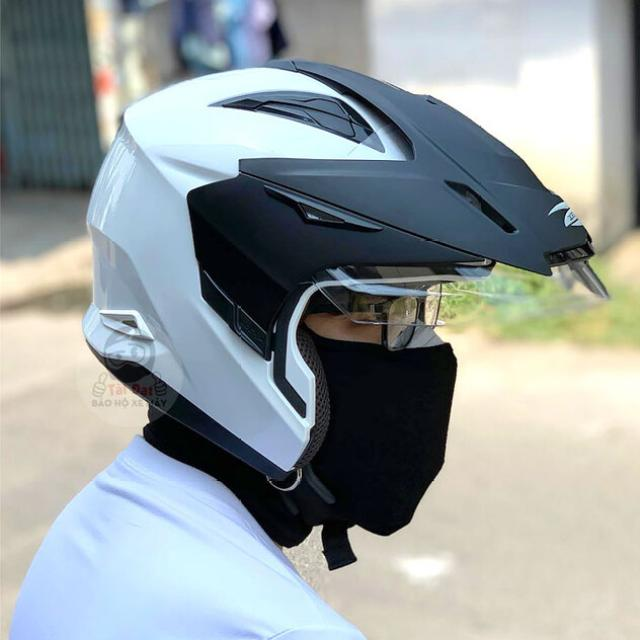Helmet: (62, 46, 620, 556)
